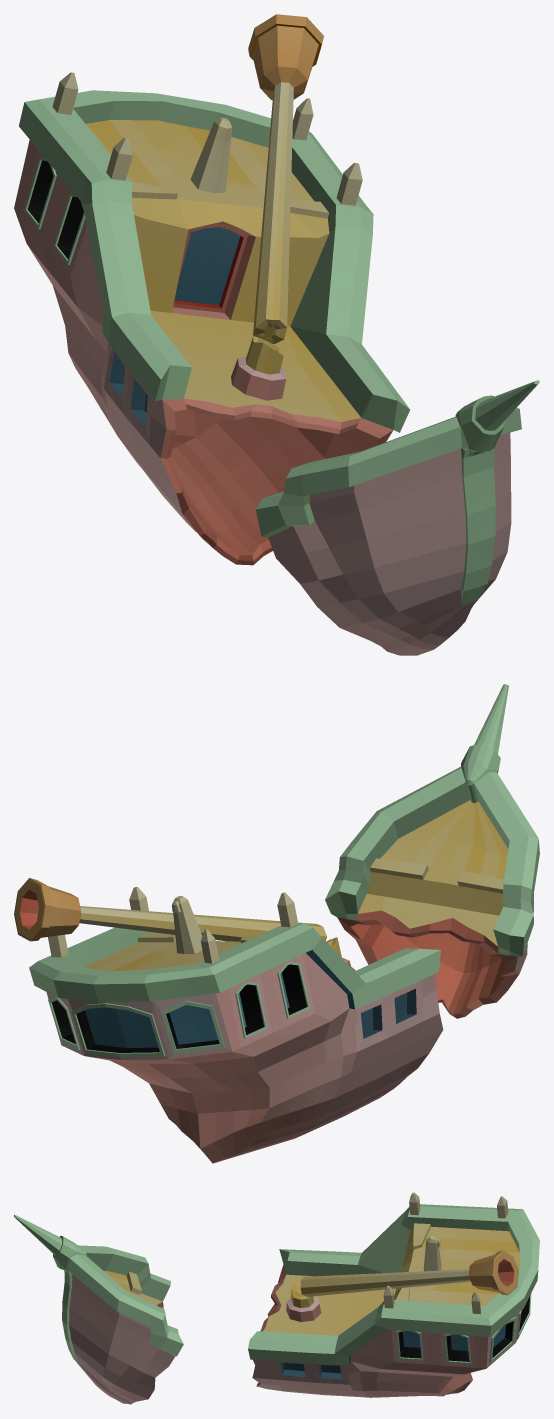
The model's file is crashed_ship.glb.
The picture shows the model from 3 angles, top to bottom: view 1: azimuth 30°, elevation 25°; view 2: azimuth 150°, elevation 25°; view 3: azimuth 270°, elevation 25°; orthographic projection. The views are drawn at different scales.
Parts seen in each view (by area): view 1: crashed_ship; view 2: crashed_ship; view 3: crashed_ship.
Part boxes in pixels (<box>): crashed_ship: <box>14,14,539,655</box>; crashed_ship: <box>14,684,539,1163</box>; crashed_ship: <box>14,1192,539,1404</box>.
Size of the model in its own units: 12.81 by 12.39 by 28.62.
Materials: 1 (1 with a texture image).
